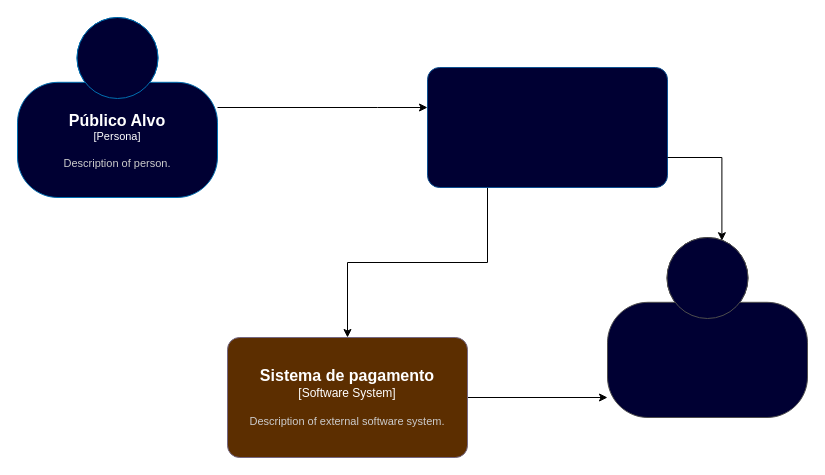
The diagram is 825 pixels wide and 475 high, and some of its shapes have lost their labels. Each missing label, with the centre of its shape:
"Glan Pro [Software System] Description of software system." belongs at (547,127).
"Salões de beleza [Person] Description of external person." belongs at (707,327).
